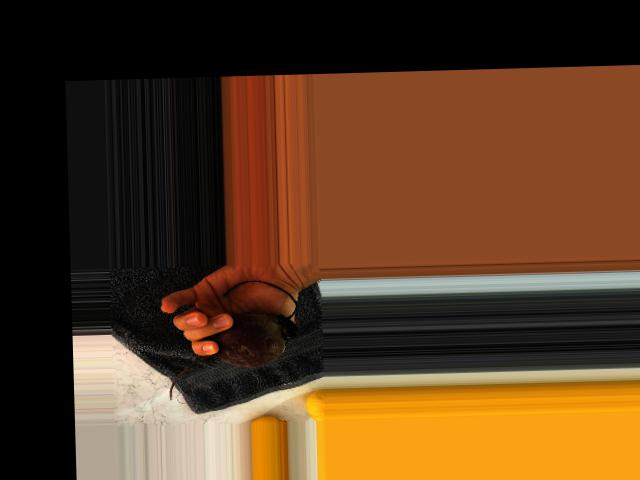beet: (166, 278, 298, 399)
